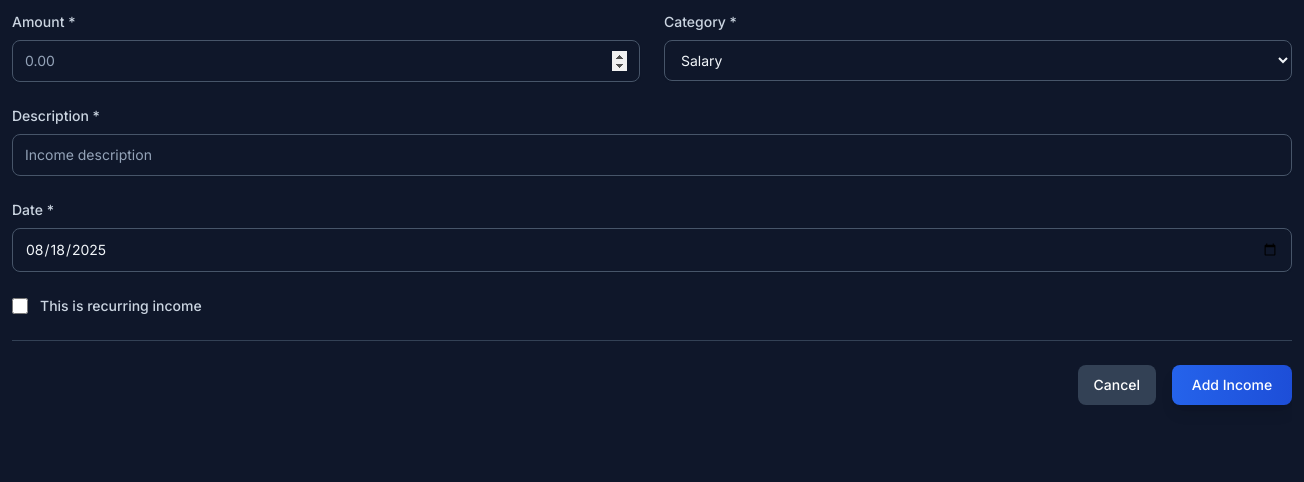
Scenario: IncomeForm › should show validation errors for empty required fields
Click the button "Add Income".
click(1232, 385)  # box [1172,365,1292,405]
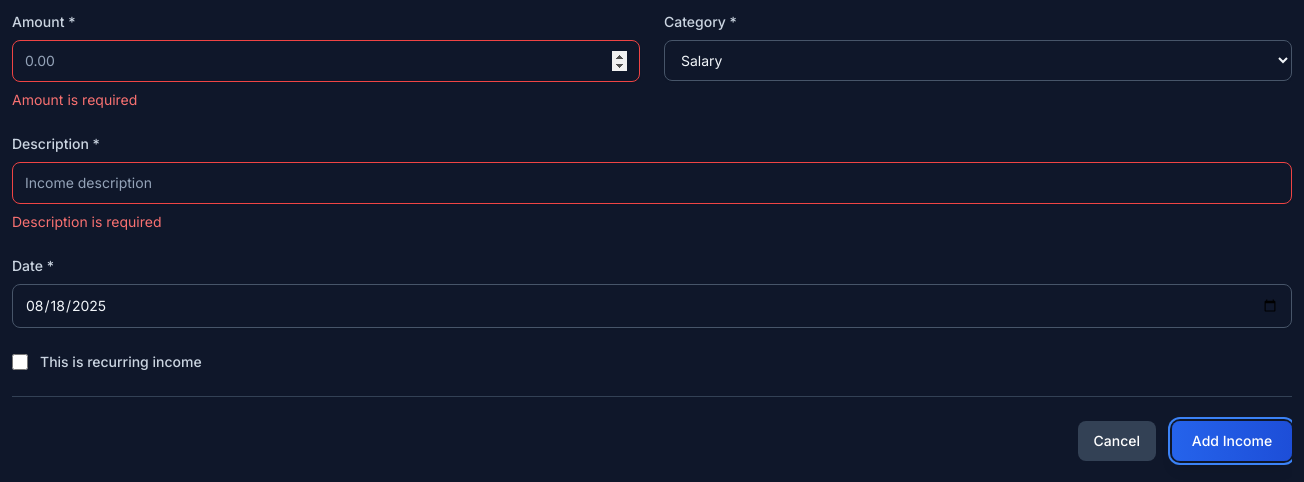
Result: the text "Amount is required" is shown at [12,91,137,108]
Result: the text "Description is required" is shown at [12,213,162,230]
